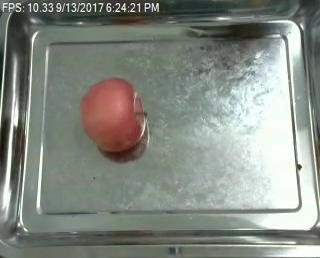apple: (80, 78, 146, 152)
